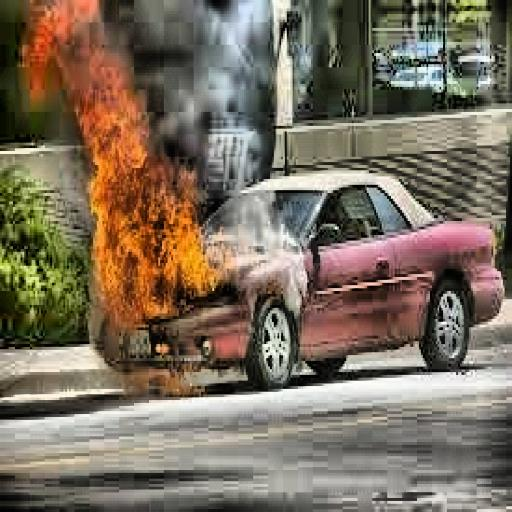fire: (19, 3, 253, 341)
